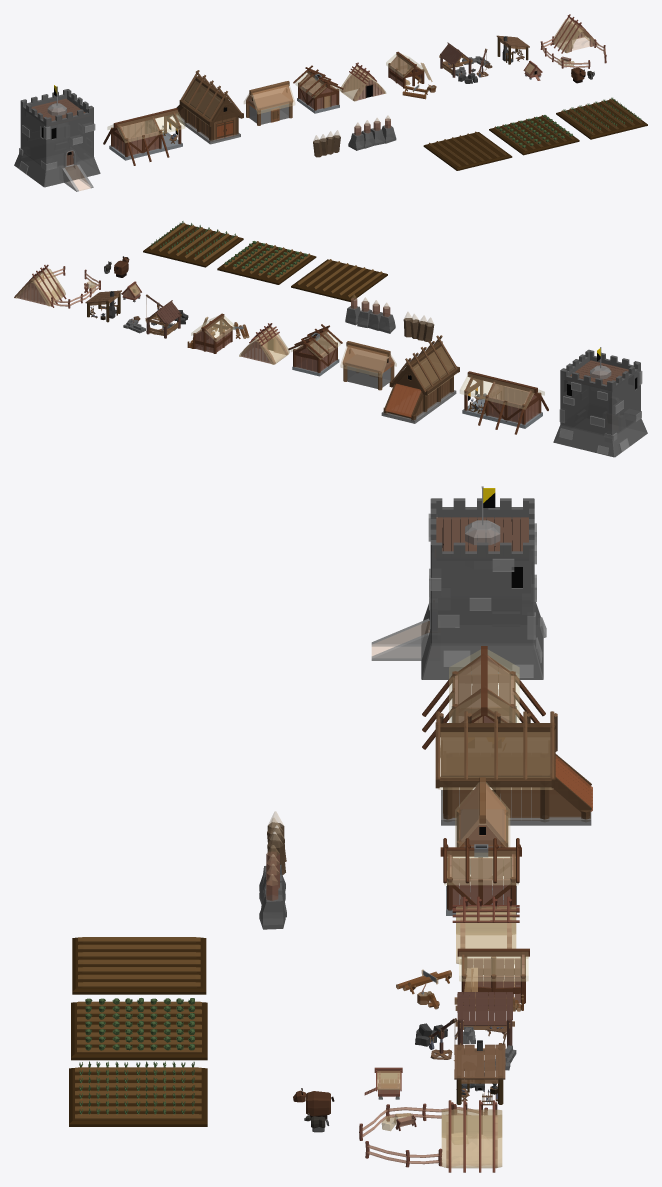
File: villiage.fbx
3 renders of one model, top to bottom at view 1: azimuth 30°, elevation 25°; view 2: azimuth 150°, elevation 25°; view 3: azimuth 270°, elevation 25°, orthographic. The views are drawn at different scales.
Parts seen in each view (by area): view 1: Cylinder.003, Cylinder.005, Cylinder.004, Cylinder.013, Cylinder.014, Cylinder.015, Cylinder.012, Cylinder.006, Cylinder.007, Cylinder.009, Cylinder.010, Cylinder.001 (+3 smaller); view 2: Cylinder.003, Cylinder.005, Cylinder.004, Cylinder.013, Cylinder.014, Cylinder.015, Cylinder.012, Cylinder.006, Cylinder.007, Cylinder.009, Cylinder.010, Cylinder.008 (+3 smaller); view 3: Cylinder.003, Cylinder.005, Cylinder.013, Cylinder.014, Cylinder.015, Cylinder.012, Cylinder.004, Cylinder.007, Cylinder.009, Cylinder.010, Cylinder.011, Cylinder.008 (+2 smaller).
Part boxes in pixels (x1,y1,x2,y2): Cylinder.003: [14, 85, 100, 191]; Cylinder.005: [172, 70, 243, 144]; Cylinder.004: [103, 108, 184, 165]; Cylinder.013: [556, 97, 647, 139]; Cylinder.014: [489, 115, 579, 155]; Cylinder.015: [423, 131, 512, 170]; Cylinder.012: [540, 14, 606, 83]; Cylinder.006: [244, 81, 294, 125]; Cylinder.007: [293, 65, 343, 113]; Cylinder.009: [386, 51, 436, 99]; Cylinder.010: [439, 42, 492, 83]; Cylinder.001: [348, 115, 396, 150]; Cylinder.003: [553, 347, 647, 457]; Cylinder.005: [381, 335, 459, 423]; Cylinder.004: [460, 371, 548, 434]; Cylinder.013: [143, 221, 243, 267]; Cylinder.014: [217, 241, 316, 284]; Cylinder.015: [291, 259, 387, 301]; Cylinder.012: [14, 256, 129, 308]; Cylinder.006: [340, 341, 396, 390]; Cylinder.007: [288, 324, 342, 376]; Cylinder.009: [187, 313, 249, 353]; Cylinder.010: [123, 294, 188, 338]; Cylinder.008: [239, 323, 289, 364]; Cylinder.003: [371, 486, 546, 679]; Cylinder.005: [435, 711, 592, 825]; Cylinder.013: [69, 1061, 207, 1126]; Cylinder.014: [71, 998, 207, 1060]; Cylinder.015: [72, 937, 206, 994]; Cylinder.012: [293, 1088, 502, 1172]; Cylinder.004: [422, 646, 545, 749]; Cylinder.007: [440, 838, 521, 915]; Cylinder.009: [396, 948, 529, 1011]; Cylinder.010: [415, 992, 516, 1070]; Cylinder.011: [364, 1040, 505, 1105]; Cylinder.008: [452, 896, 519, 964].
Bounding box in the file's own units: 5946 × 860 × 2399.
